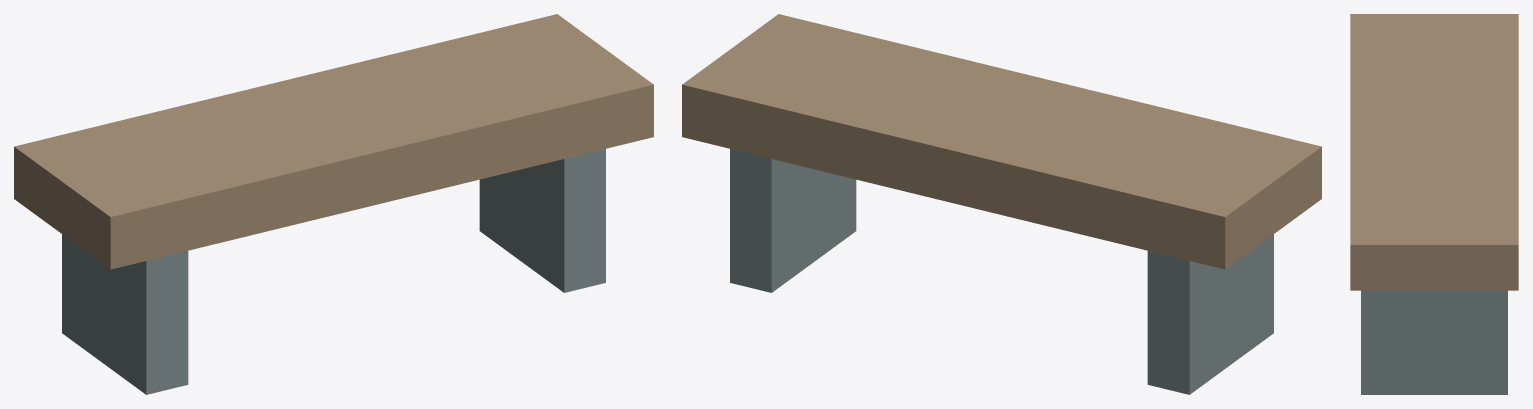
Rendered from bench.glb.
3 views of the same model, side by side, from view 1: azimuth 30°, elevation 25°; view 2: azimuth 150°, elevation 25°; view 3: azimuth 270°, elevation 25° (orthographic). The views are drawn at different scales.
Bounding box in the file's own units: 1.3 × 0.44 × 0.4.
